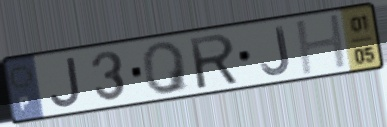3: (89, 49, 127, 104)
H: (292, 11, 351, 78)
J: (47, 54, 84, 109), (259, 23, 293, 77)
Q: (139, 38, 193, 97)
R: (186, 31, 242, 92)
